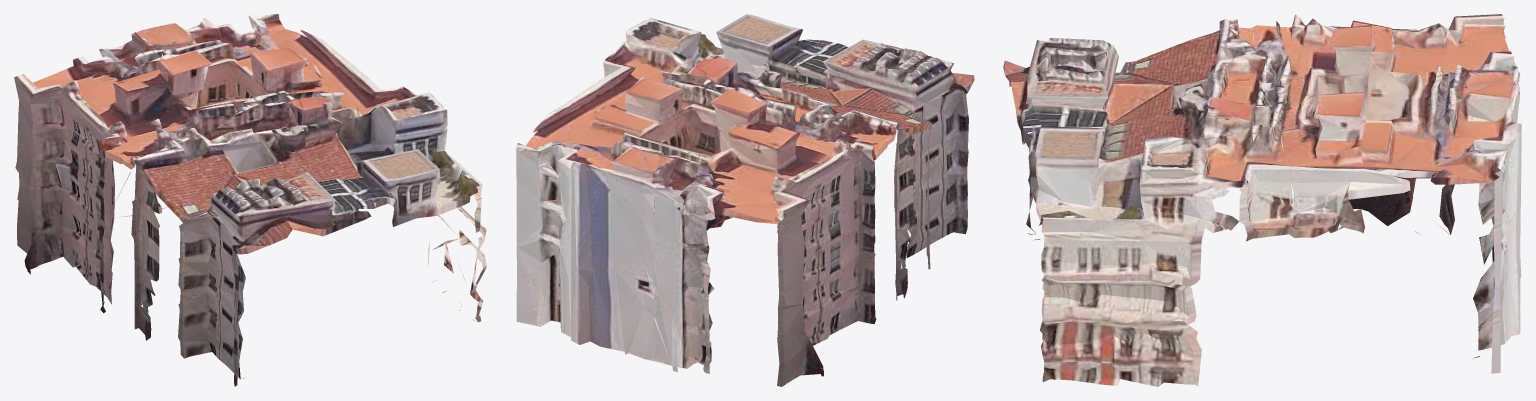
3 views of the same model, side by side, from view 1: azimuth 30°, elevation 25°; view 2: azimuth 150°, elevation 25°; view 3: azimuth 270°, elevation 25° (orthographic). The views are drawn at different scales.
Visible parts, largest first — view 1: Mesh_0; view 2: Mesh_0; view 3: Mesh_0.
Boxes of the visible parts, bbox=[...] form: Mesh_0: bbox=[14, 14, 486, 386]; Mesh_0: bbox=[515, 14, 974, 386]; Mesh_0: bbox=[1003, 14, 1521, 386].
Size of the model in its own units: 31.81 by 21.48 by 39.61.
Materials: 1 (1 with a texture image).
